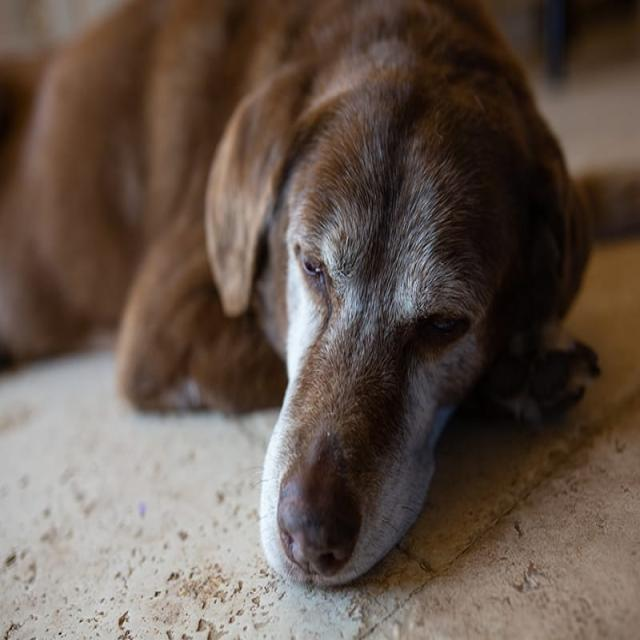fungal infection: (333, 201, 441, 309), (326, 281, 384, 372), (369, 137, 426, 219), (422, 264, 484, 310), (442, 348, 484, 384), (322, 221, 334, 270)
